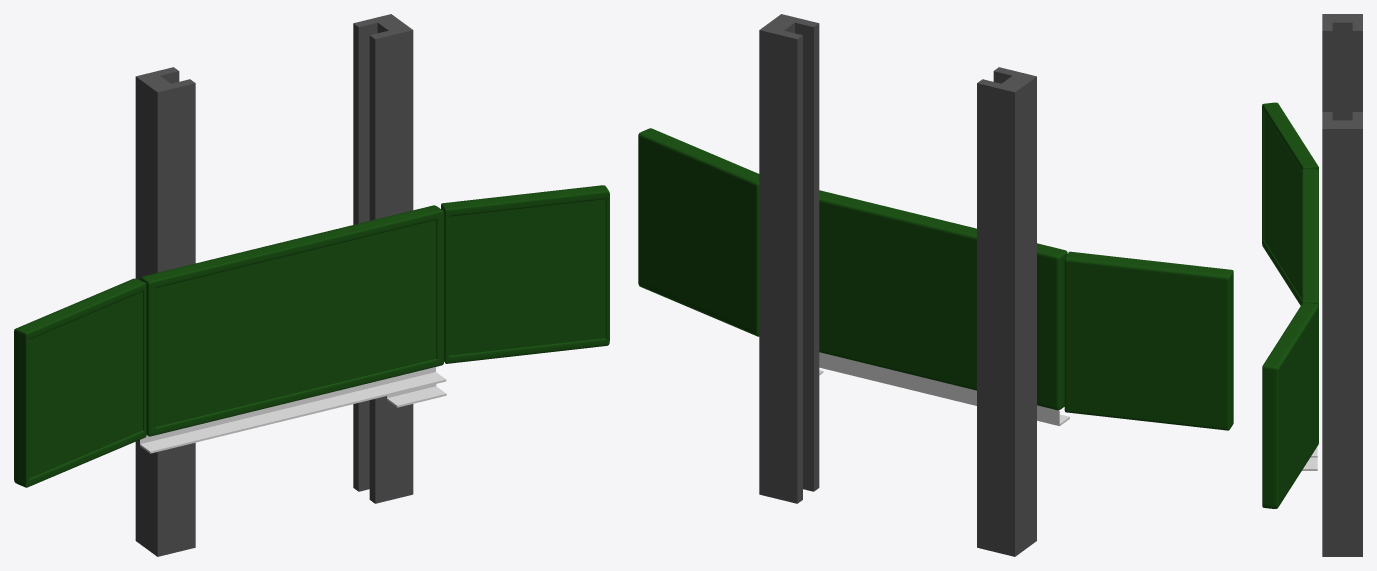
Rendered from Tafel.fbx.
3 views of the same model, side by side, from view 1: azimuth 30°, elevation 25°; view 2: azimuth 150°, elevation 25°; view 3: azimuth 270°, elevation 25° (orthographic). The views are drawn at different scales.
Parts seen in each view (by area): view 1: Cube, Cube.002, Cube.001, Cube.004, Cube.003, Plane, Plane.001; view 2: Cube, Cube.003, Cube.004, Cube.001, Cube.002, Plane; view 3: Cube.003, Cube.002, Cube.001, Cube.004, Cube, Plane.001.
Boxes of the visible parts, left/top/right/bottom form: Cube: left=140, top=205, right=443, bottom=436; Cube.002: left=441, top=185, right=609, bottom=363; Cube.001: left=14, top=278, right=146, bottom=487; Cube.004: left=135, top=67, right=195, bottom=556; Cube.003: left=353, top=14, right=413, bottom=503; Plane: left=140, top=367, right=446, bottom=453; Plane.001: left=387, top=384, right=446, bottom=407; Cube: left=819, top=190, right=1067, bottom=410; Cube.003: left=759, top=14, right=819, bottom=503; Cube.004: left=977, top=67, right=1036, bottom=556; Cube.001: left=1064, top=251, right=1233, bottom=430; Cube.002: left=638, top=128, right=759, bottom=336; Plane: left=819, top=352, right=1069, bottom=426; Cube.003: left=1322, top=112, right=1362, bottom=556; Cube.002: left=1262, top=302, right=1318, bottom=508; Cube.001: left=1262, top=102, right=1318, bottom=305; Cube.004: left=1322, top=14, right=1362, bottom=120; Cube: left=1302, top=169, right=1318, bottom=305; Plane.001: left=1302, top=457, right=1317, bottom=470.
Size of the model in its own units: 3.99 by 3 by 0.6397.
